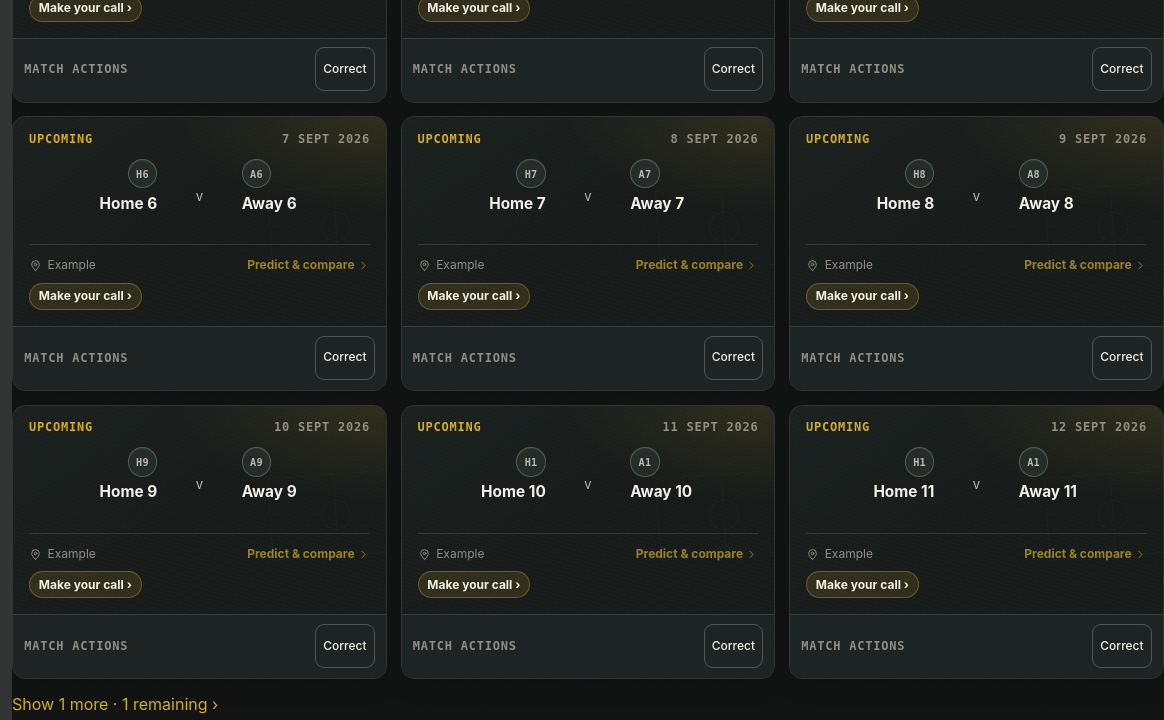
Matchday progressive disclosure › pages a long league rail instead of rendering every match at once
(page scrolled)
Click the button "Show 1 more · 1 remaining ›" at {"x": 115, "y": 705}, box 12,689 -> 218,719
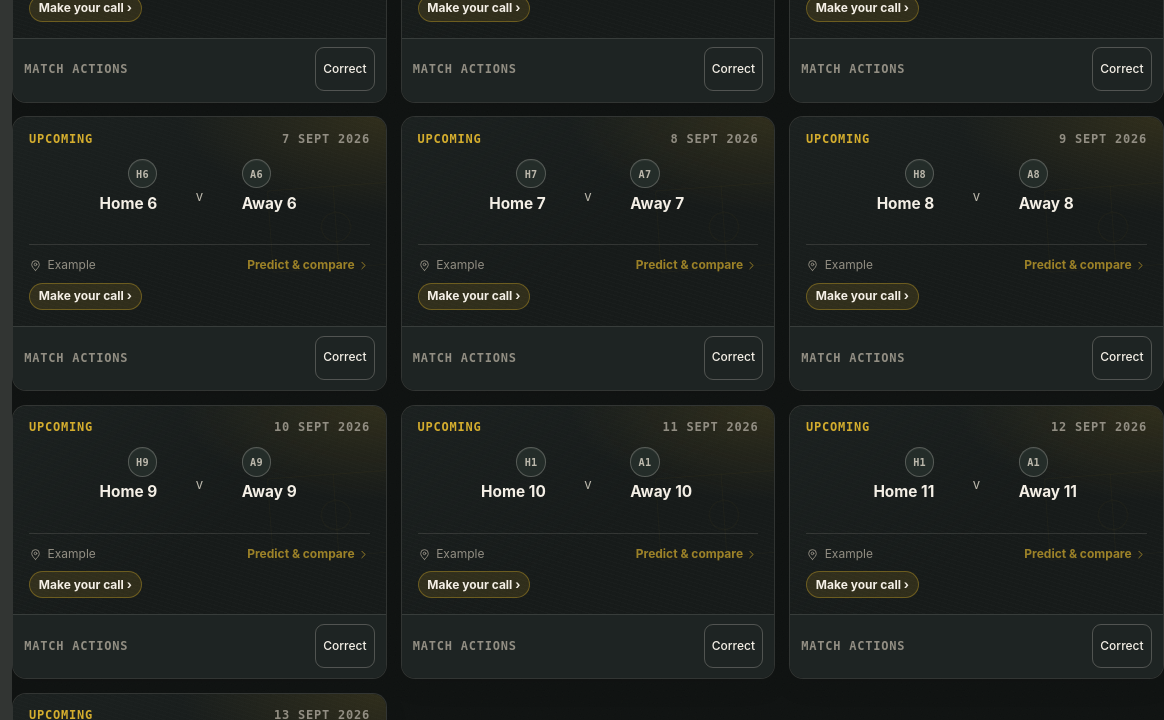
Check: the text "Show 1 more" is gone
